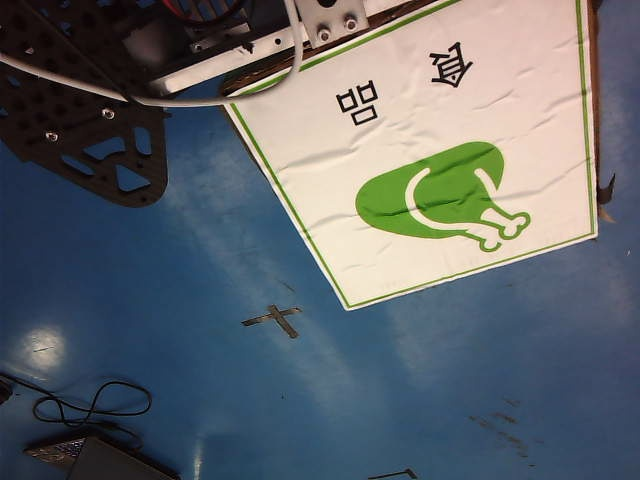Cube_food: (316, 33, 537, 261)
